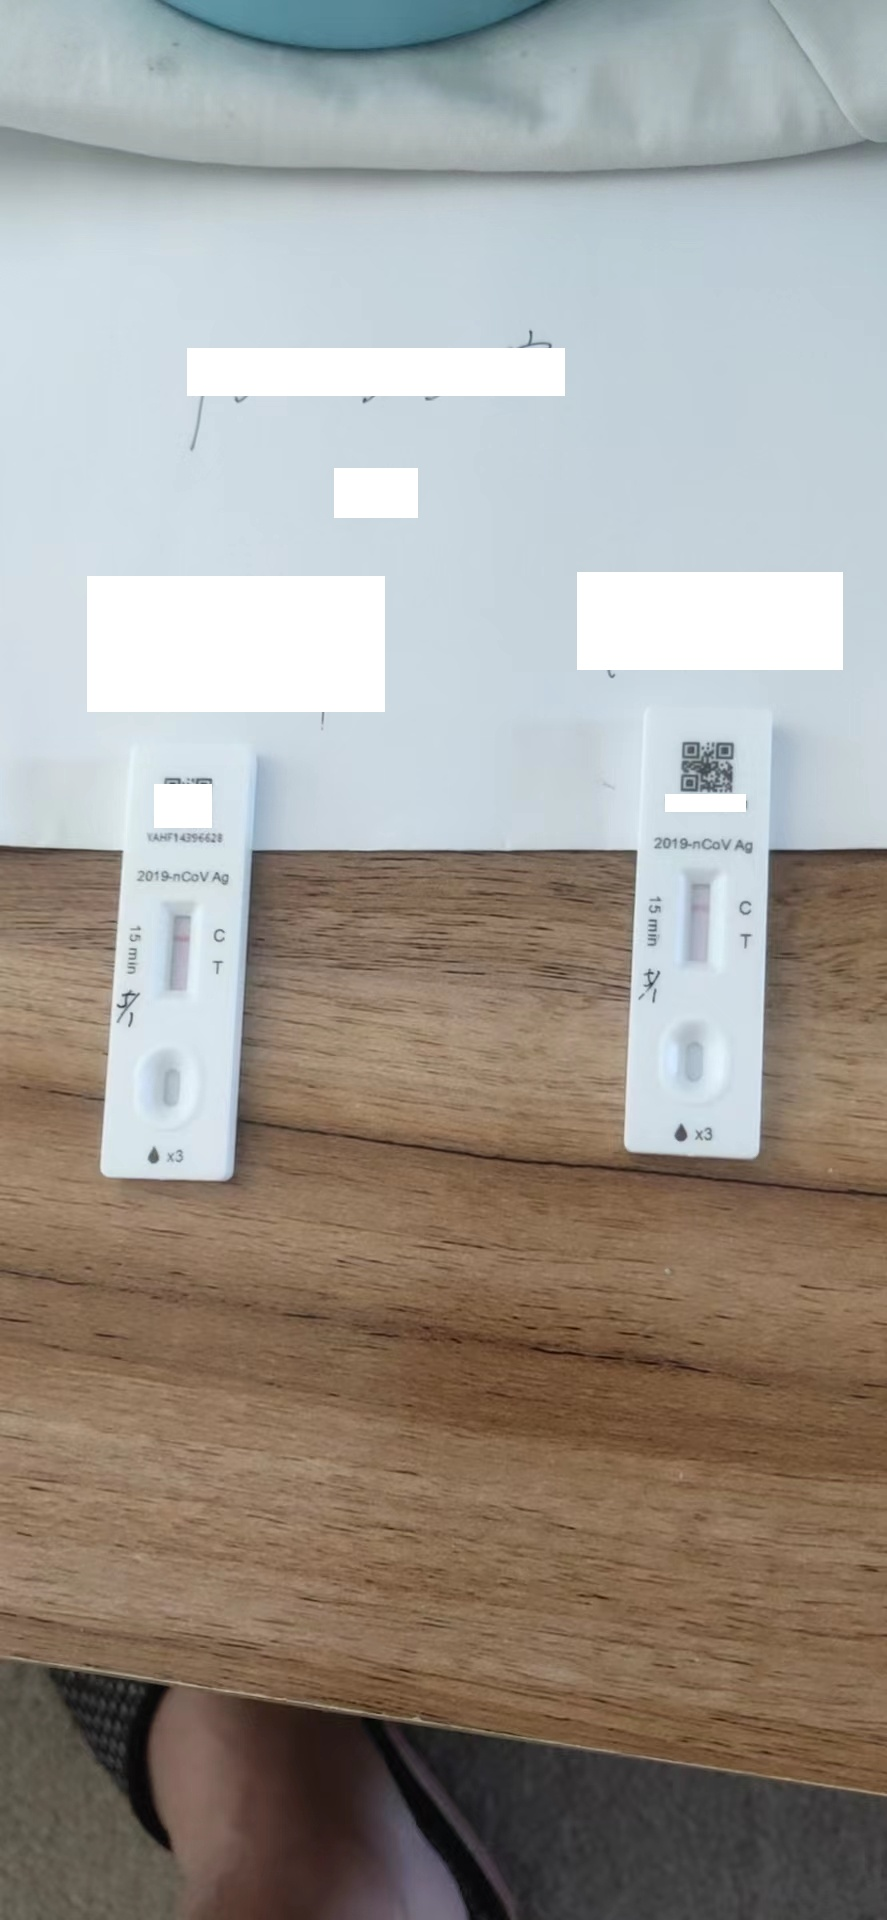negative: (680, 868, 720, 971), (157, 899, 198, 994)
